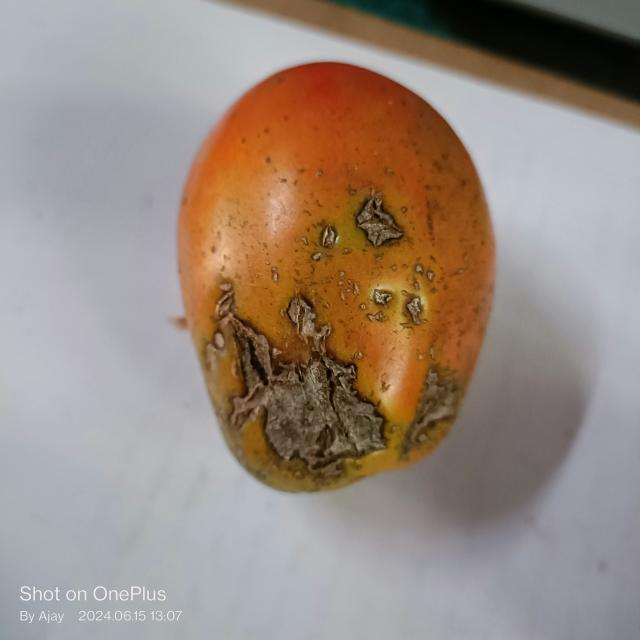Bacterial_Spot: (200, 282, 394, 478), (403, 365, 469, 461), (357, 188, 408, 255), (315, 218, 338, 254), (416, 254, 434, 285)
